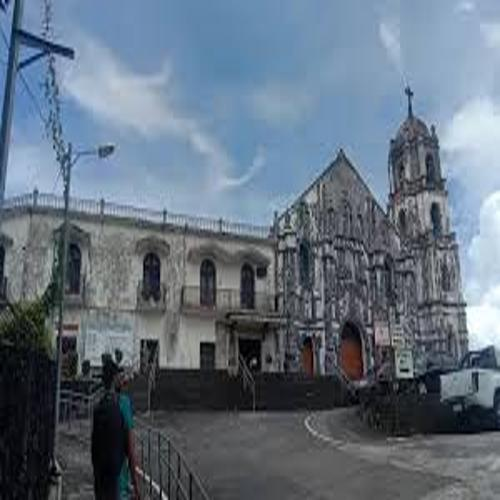Daraga Church: (268, 72, 477, 391)
